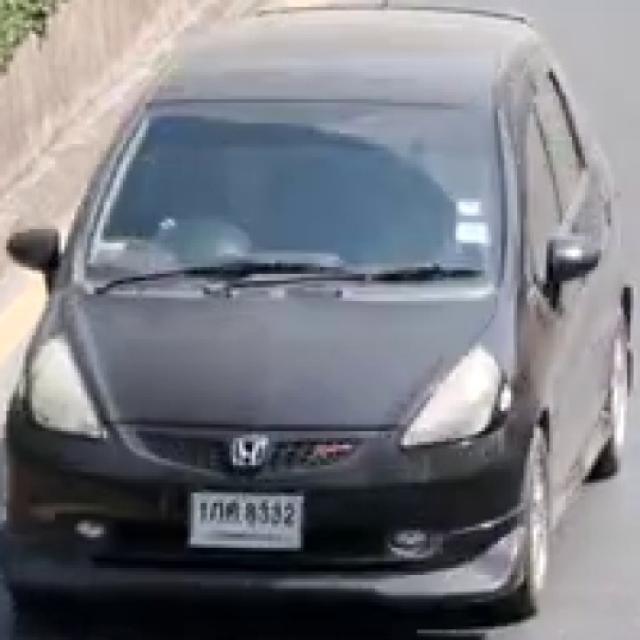plate: (190, 490, 305, 550)
